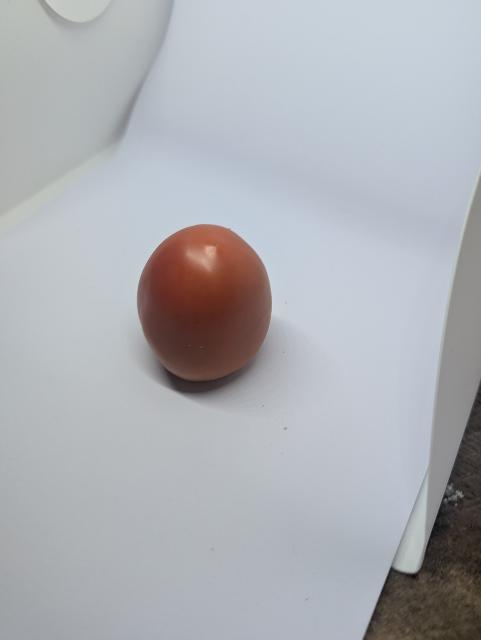red: (118, 205, 289, 402)
